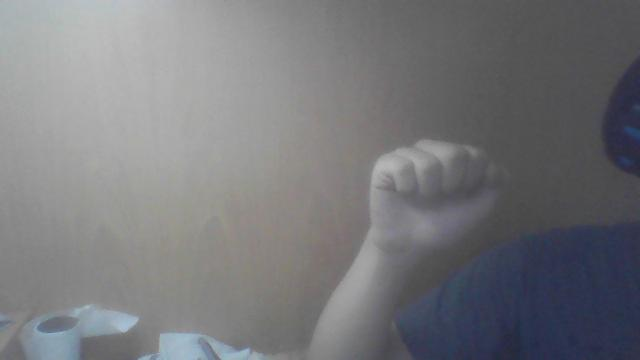forward: (367, 138, 509, 262)
